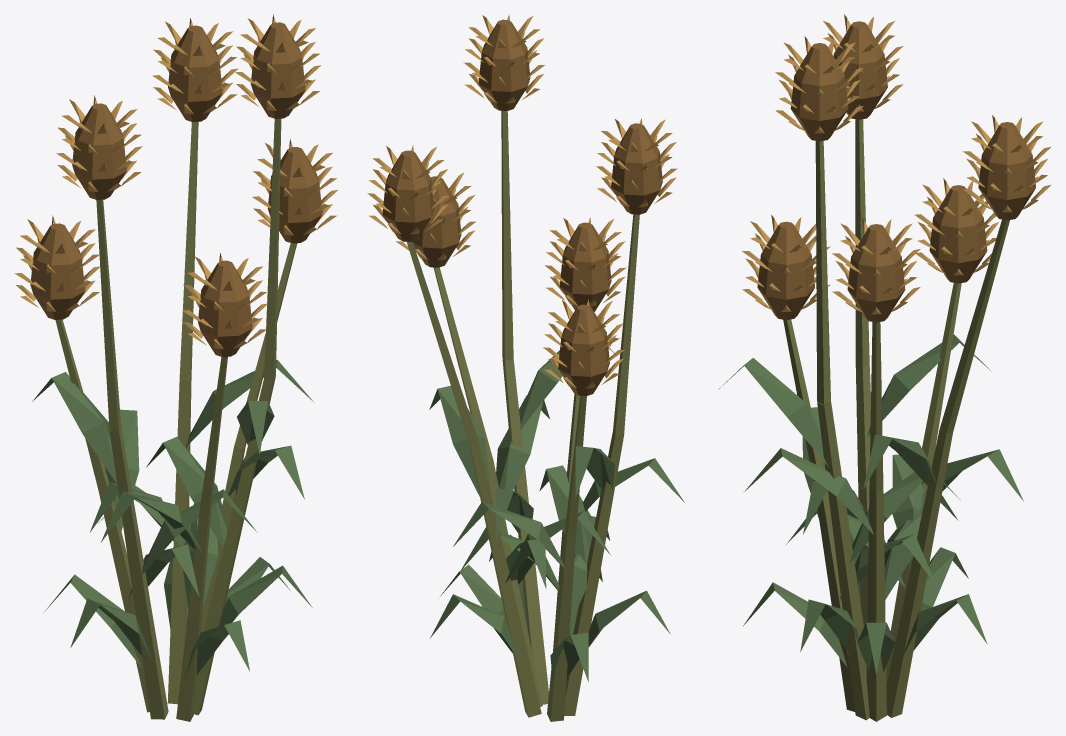
The model's file is w10a-verge-teasel.glb.
The picture shows the model from 3 angles, left to right: view 1: azimuth 30°, elevation 25°; view 2: azimuth 150°, elevation 25°; view 3: azimuth 270°, elevation 25°; orthographic projection. The views are drawn at different scales.
Parts seen in each view (by area): view 1: Weathered roadside teasel; view 2: Weathered roadside teasel; view 3: Weathered roadside teasel.
Part boxes in pixels (x1,y1,x2,y2): Weathered roadside teasel: (14, 14, 337, 721); Weathered roadside teasel: (367, 14, 684, 721); Weathered roadside teasel: (718, 14, 1051, 721).
Bounding box in the file's own units: 0.3762 × 0.8837 × 0.386.
